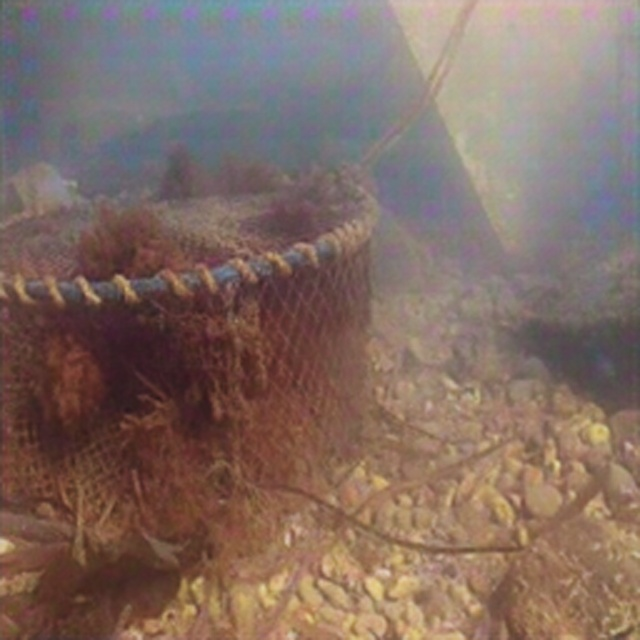mine: (0, 168, 379, 531)
